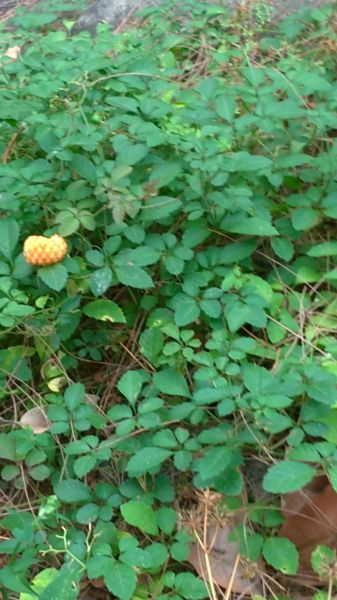eggs: (20, 228, 70, 270)
